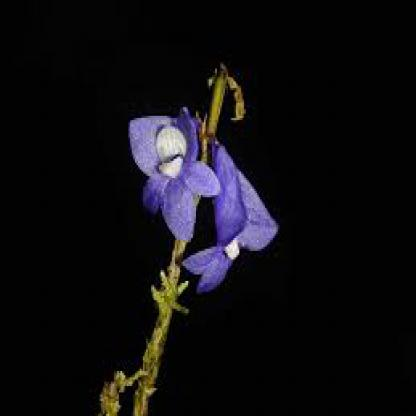ANGGREK: (128, 68, 277, 299)
